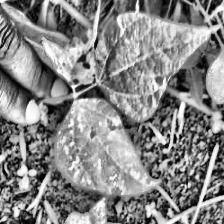ALS: (95, 13, 214, 120), (54, 94, 162, 198), (50, 5, 104, 90), (25, 196, 117, 224)
